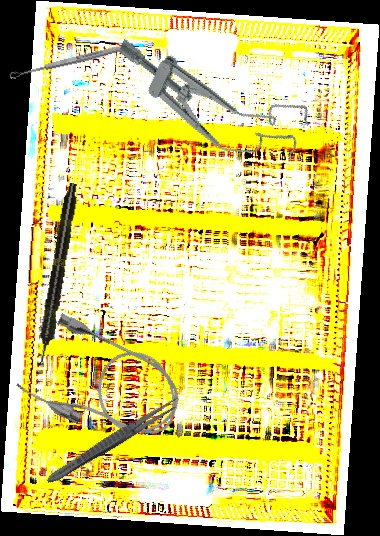Cannula: (12, 308, 194, 460)
Dressing Forceps: (43, 393, 184, 488)
Handpiece: (33, 182, 81, 366)
Speculum: (99, 24, 316, 179)
Surgical Spoon: (8, 42, 132, 80)
